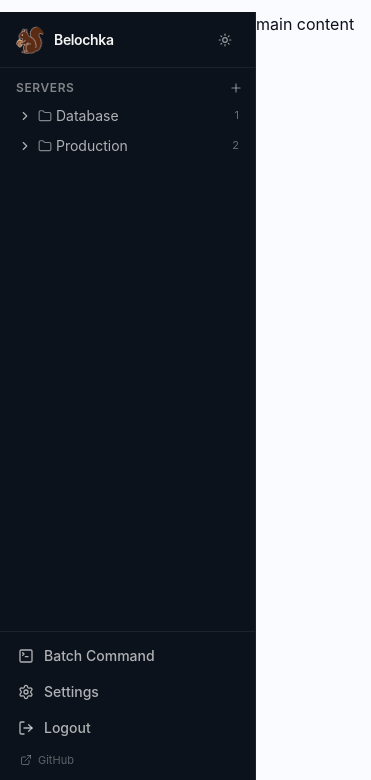
Scenario: Sidebar group management UX › right-clicking blank tree-area space shows a New Group menu
Expected: the text "Production" is shown, [56,137,128,154]
Right-click the navigation bar at point(45, 88), box [16,80,243,155]
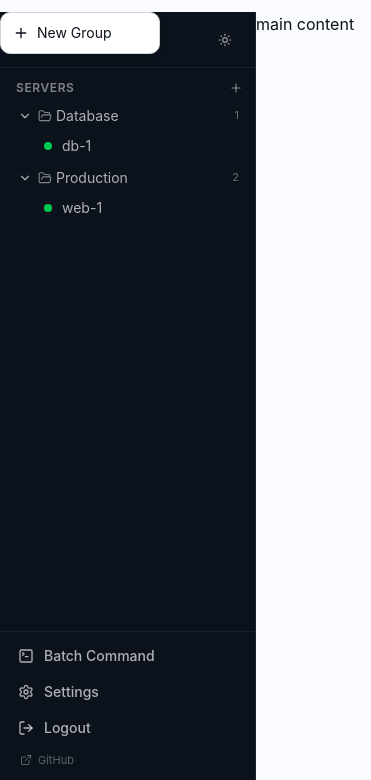
Result: the menu item "New Group" is shown at [5,17,155,49]
